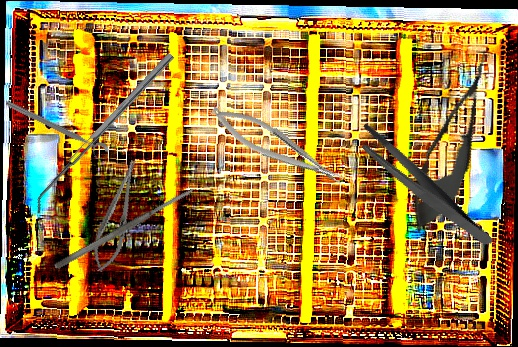Dressing Forceps: (352, 100, 494, 274)
Fixation Ring: (0, 96, 112, 164)
Micro Scissor: (398, 41, 509, 242)
Needle Holder: (205, 95, 348, 198), (86, 156, 148, 276)
Spatula Surgical: (27, 52, 180, 215), (52, 186, 197, 271)
